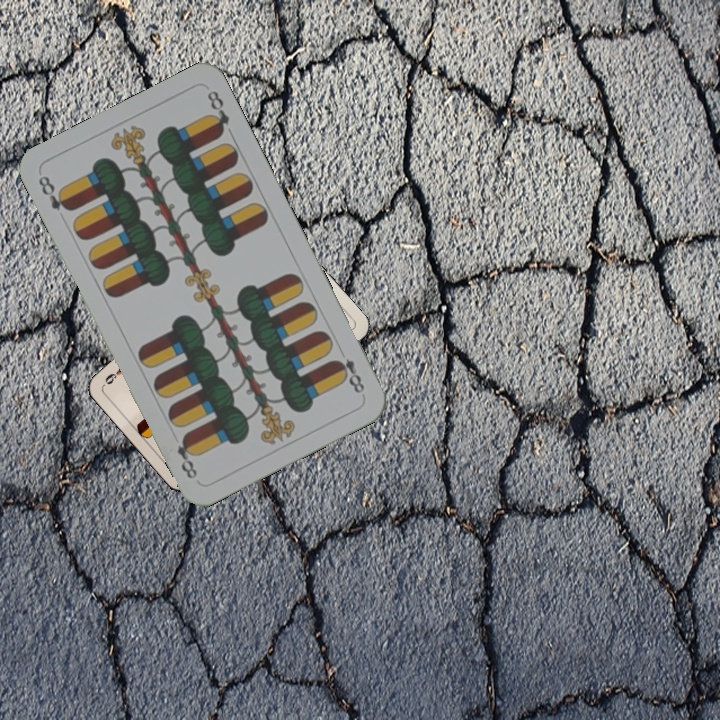E8: (34, 171, 75, 214), (330, 354, 367, 396)
